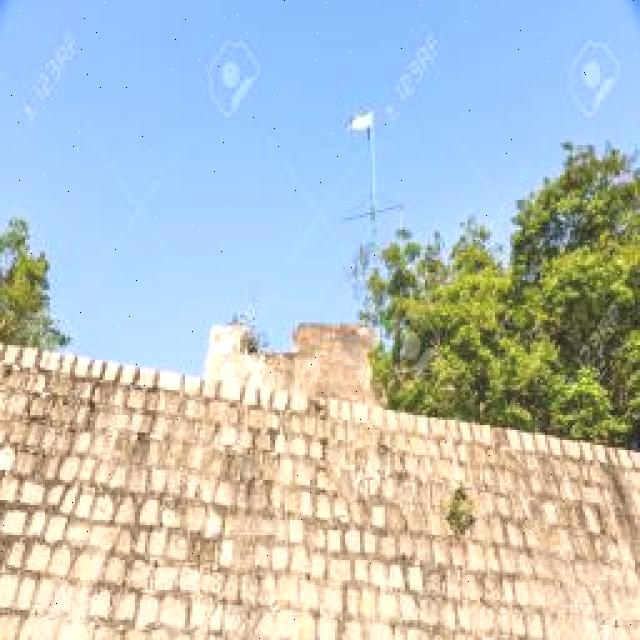crack: (0, 338, 639, 638), (200, 320, 384, 409), (10, 464, 149, 536), (91, 410, 169, 459), (34, 581, 83, 627), (13, 608, 81, 640), (124, 386, 168, 415), (70, 548, 107, 581), (218, 363, 247, 403), (243, 366, 269, 406), (18, 480, 46, 508), (1, 508, 28, 537), (157, 370, 183, 393), (101, 361, 122, 384), (181, 377, 202, 397)
dampness: (6, 391, 265, 591), (0, 353, 89, 435)
vegetation: (349, 138, 638, 448), (507, 141, 639, 286), (0, 215, 70, 350), (343, 208, 411, 331), (415, 337, 498, 418), (226, 304, 265, 355), (0, 215, 31, 267)
